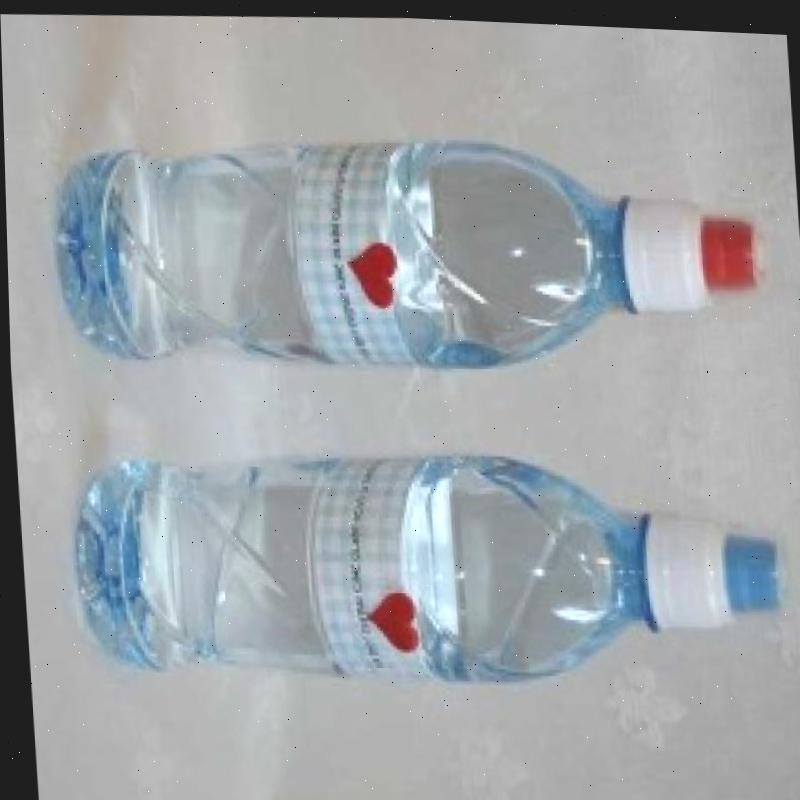botella: (67, 423, 785, 707), (53, 110, 761, 387)
